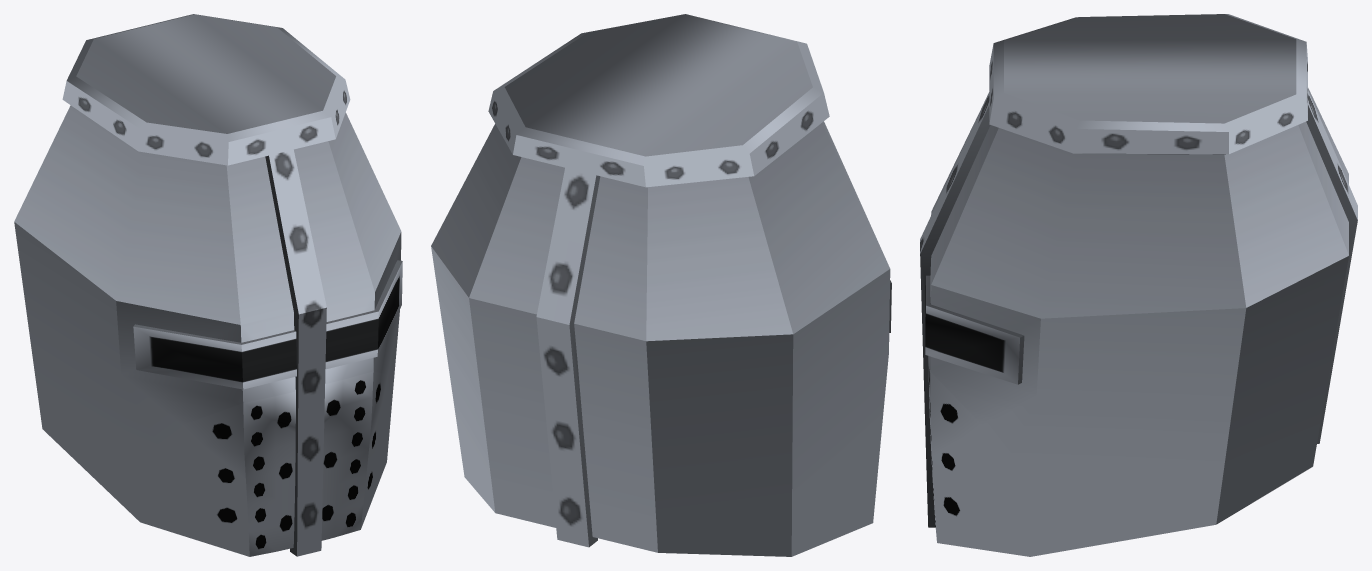
File: pk-polysplit-heroes-greathelm.glb
The picture shows the model from 3 angles, left to right: view 1: azimuth 30°, elevation 25°; view 2: azimuth 150°, elevation 25°; view 3: azimuth 270°, elevation 25°; orthographic projection. The views are drawn at different scales.
Parts seen in each view (by area): view 1: GreatHelm; view 2: GreatHelm; view 3: GreatHelm.
Boxes of the visible parts, x1,y1,x2,y2 form: GreatHelm: [14, 14, 402, 556]; GreatHelm: [431, 14, 891, 556]; GreatHelm: [920, 14, 1357, 556].
Bounding box in the file's own units: 0.2796 × 0.3557 × 0.3105.
Materials: 1 (1 with a texture image).
